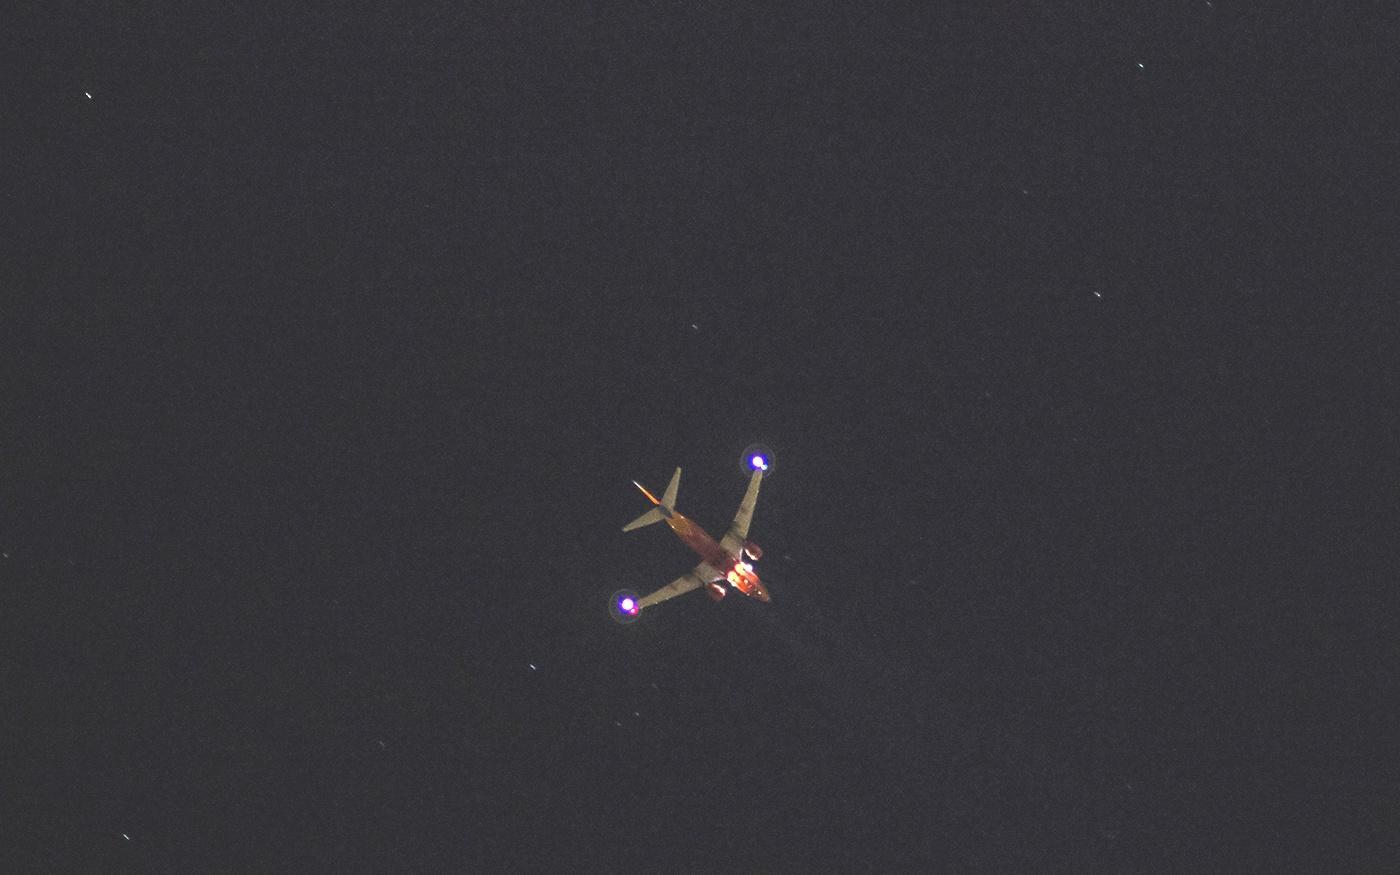Plane: (584, 442, 841, 632)
